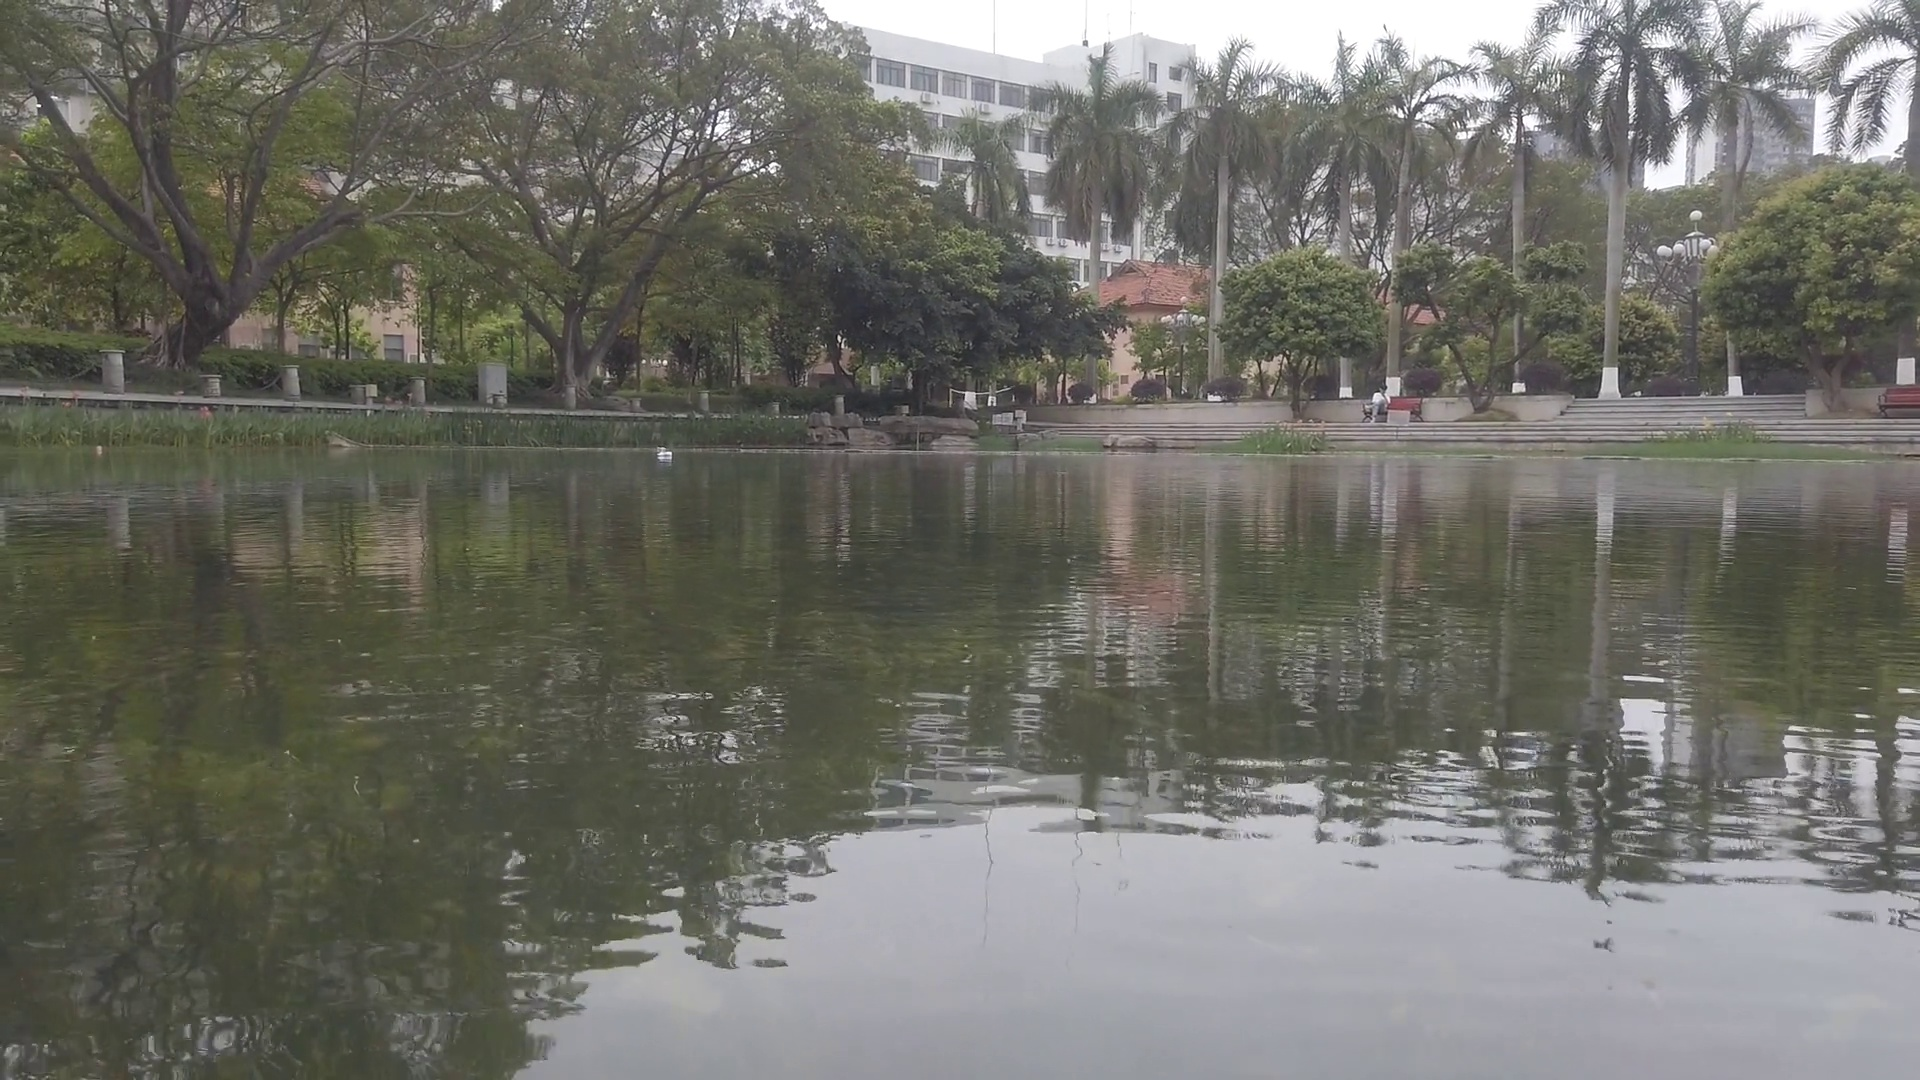bottle: (94, 442, 105, 454), (657, 452, 671, 459)
